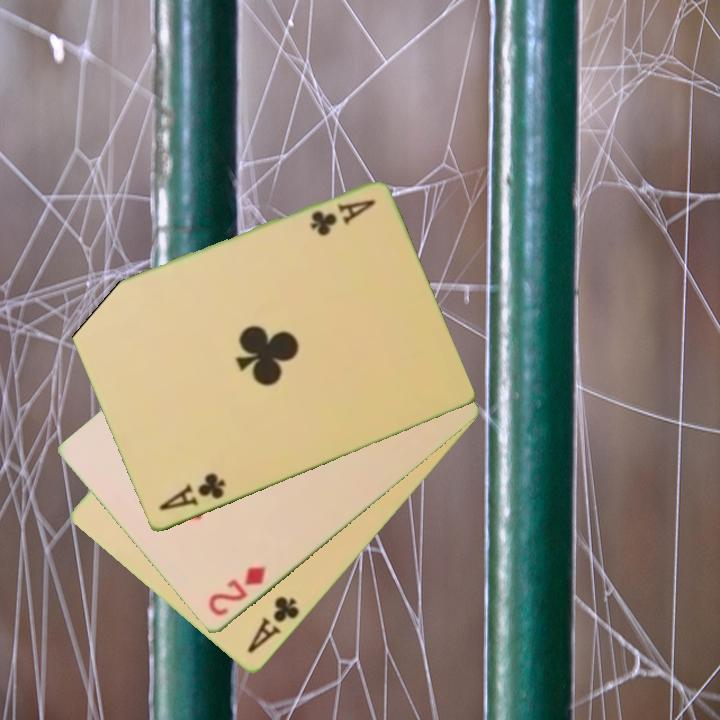2d: (204, 563, 269, 620)
Ac: (243, 593, 303, 657), (155, 470, 228, 514), (306, 196, 379, 240)
